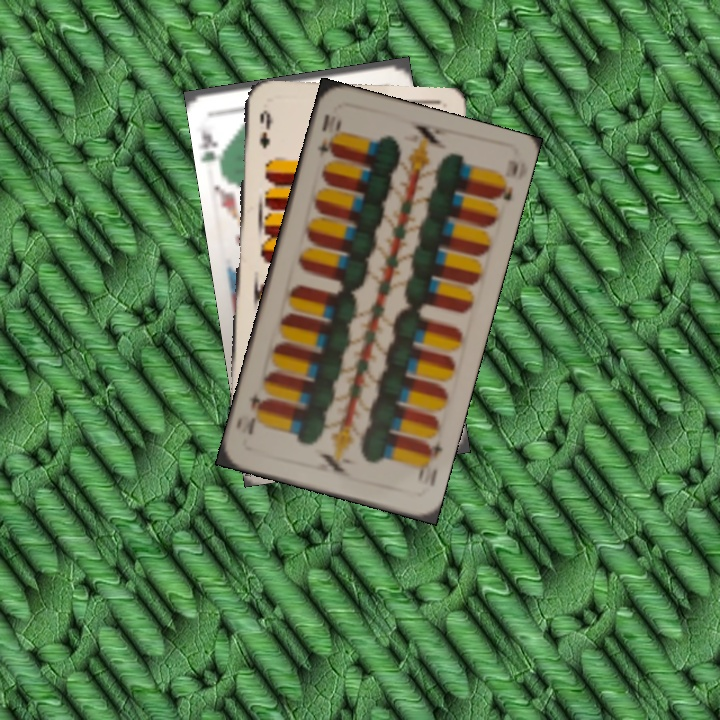E10: (413, 438, 446, 489), (314, 116, 344, 159)
E9: (255, 106, 273, 151)
GK: (197, 125, 227, 171)
